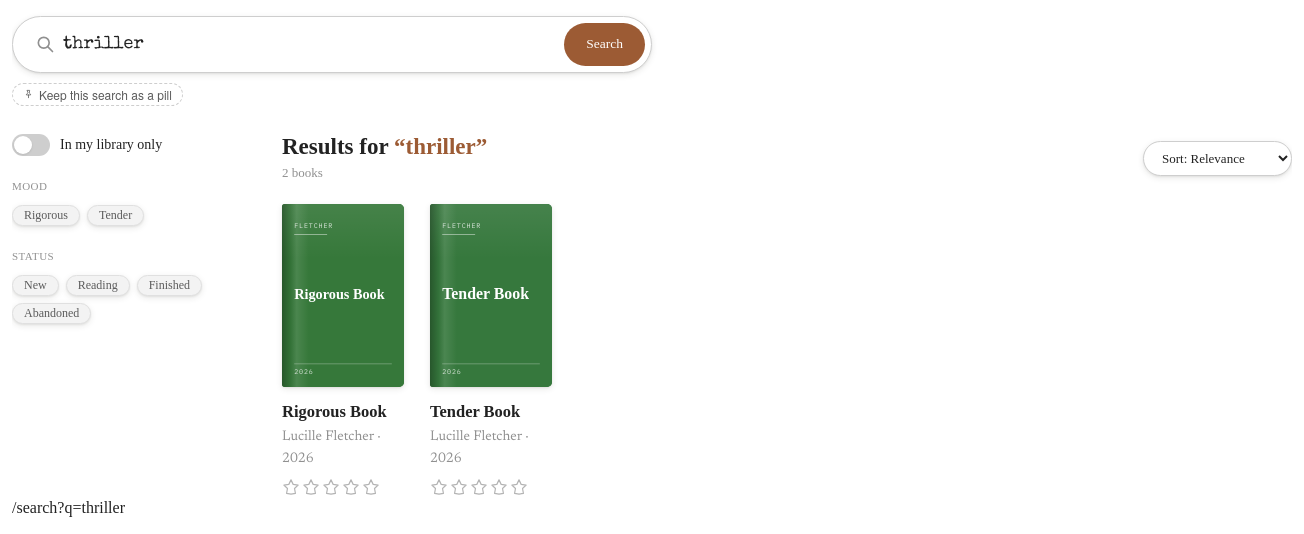
Test case: SearchPage › filters to a mood client-side without refetching
Check: the button "Rigorous Book" is shown, box [282, 204, 404, 496]
Click the button "Rigorous". click: (46, 215)
box: [12, 205, 80, 226]
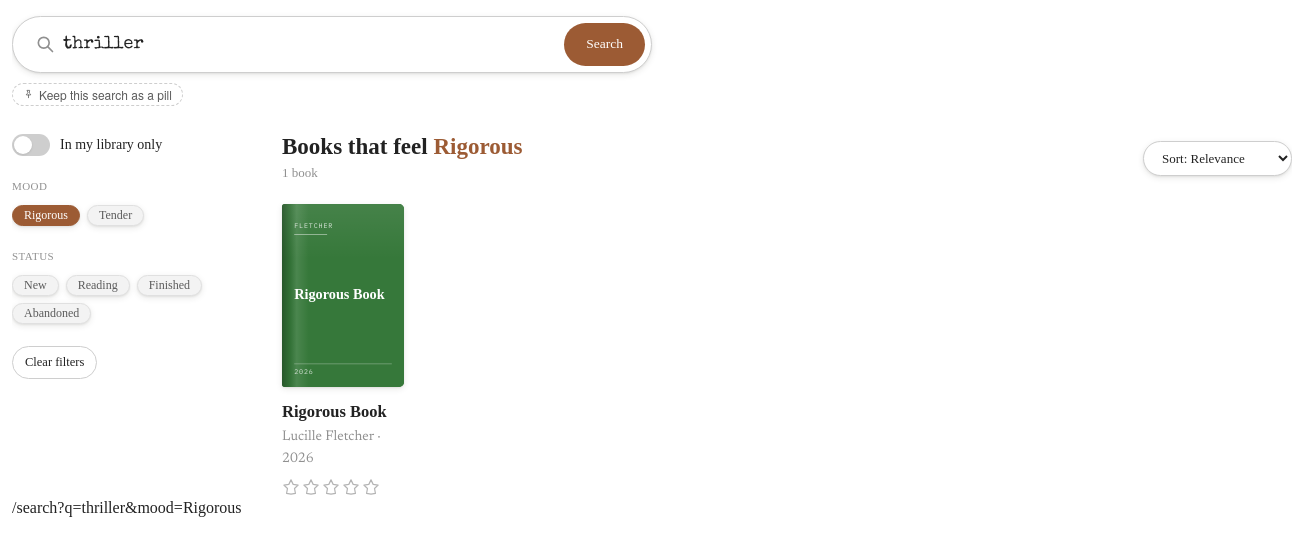
Check: the button "Rigorous Book" is shown, box [282, 204, 404, 496]
Check: the button "Tender Book" is gone
